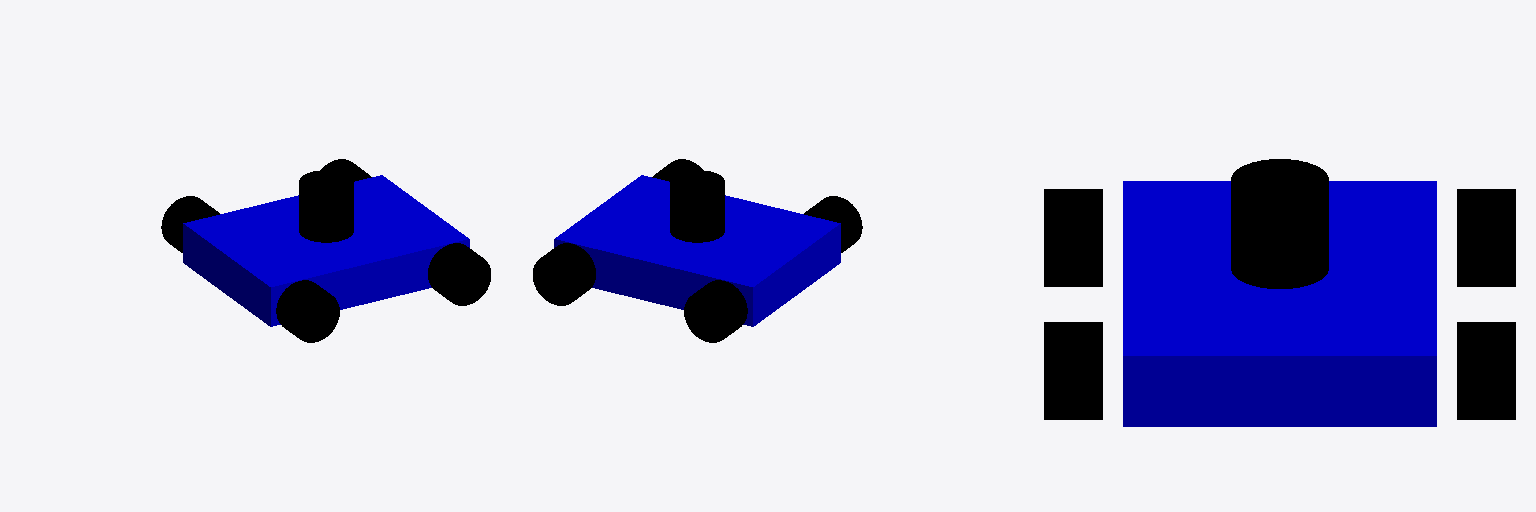
robot.urdf — andresito:
<?xml version="1.0" ?>
<!-- =================================================================================== -->
<!-- |    This document was autogenerated by xacro from andresito.xacro                | -->
<!-- |    EDITING THIS FILE BY HAND IS NOT RECOMMENDED                                 | -->
<!-- =================================================================================== -->
<robot name="andresito">
  <!-- <preserveFixedJoint>true</preserveFixedJoint> -->
  <!-- CAMERA -->
  <!-- <xacro:property name="camera_link" value="realsense_link" />
    <xacro:property name="camera_relative_to" value="puller_base" />
    <xacro:property name="camera_x" value="-${puller_depth/2-0.03}" />
    <xacro:property name="camera_y" value="0.0" />
    <xacro:property name="camera_z" value="0.24" />
    <xacro:property name="camera_rotation_z" value="${180*deg_to_rad}" /> -->
  <!-- PROPERTIES -->
  <material name="blue">
    <color rgba="0 0 0.9 1"/>
  </material>
  <material name="black">
    <color rgba="0 0 0 1"/>
  </material>
  <material name="white">
    <color rgba="1 1 1 1"/>
  </material>
  <!-- <xacro:include filename="leg.xacro" />
  <xacro:include filename="leg_support.xacro" />
  <xacro:include filename="gazebo.xacro" /> -->
  <!-- LINKS -->
  <link name="base_footprint"/>
  <link name="base_link">
    <visual>
      <geometry>
        <box size="0.42 0.32 0.08"/>
      </geometry>
      <material name="blue"/>
    </visual>
    <collision>
      <geometry>
        <box size="0.42 0.32 0.08"/>
      </geometry>
    </collision>
  </link>
  <!-- <link name="center_rotation"></link> -->
  <link name="laser">
    <visual>
      <geometry>
        <cylinder length="0.12" radius="0.05"/>
      </geometry>
      <origin rpy="0 0 0" xyz="0 0 0"/>
      <material name="black"/>
    </visual>
  </link>
  <link name="left_front_wheel">
    <visual>
      <geometry>
        <cylinder length="0.06" radius="0.05"/>
        <!-- <sphere radius="${wheel_radius}"/> -->
      </geometry>
      <origin rpy="1.5707963267948966 0 0" xyz="0 0 0"/>
      <material name="black"/>
    </visual>
    <collision>
      <origin rpy="1.5707963267948966 0 0" xyz="0 0 0"/>
      <geometry>
        <cylinder length="0.06" radius="0.05"/>
        <!-- <sphere radius="${wheel_radius}"/> -->
      </geometry>
    </collision>
  </link>
  <link name="left_back_wheel">
    <visual>
      <geometry>
        <cylinder length="0.06" radius="0.05"/>
        <!-- <sphere radius="${wheel_radius}"/> -->
      </geometry>
      <origin rpy="1.5707963267948966 0 0" xyz="0 0 0"/>
      <material name="black"/>
    </visual>
    <collision>
      <origin rpy="1.5707963267948966 0 0" xyz="0 0 0"/>
      <geometry>
        <cylinder length="0.06" radius="0.05"/>
        <!-- <sphere radius="${wheel_radius}"/> -->
      </geometry>
    </collision>
  </link>
  <link name="right_front_wheel">
    <visual>
      <geometry>
        <cylinder length="0.06" radius="0.05"/>
        <!-- <sphere radius="${wheel_radius}"/> -->
      </geometry>
      <origin rpy="1.5707963267948966 0 0" xyz="0 0 0"/>
      <material name="black"/>
    </visual>
    <collision>
      <origin rpy="1.5707963267948966 0 0" xyz="0 0 0"/>
      <geometry>
        <cylinder length="0.06" radius="0.05"/>
        <!-- <sphere radius="${wheel_radius}"/> -->
      </geometry>
    </collision>
  </link>
  <link name="right_back_wheel">
    <visual>
      <geometry>
        <cylinder length="0.06" radius="0.05"/>
        <!-- <sphere radius="${wheel_radius}"/> -->
      </geometry>
      <origin rpy="1.5707963267948966 0 0" xyz="0 0 0"/>
      <material name="black"/>
    </visual>
    <collision>
      <origin rpy="1.5707963267948966 0 0" xyz="0 0 0"/>
      <geometry>
        <cylinder length="0.06" radius="0.05"/>
        <!-- <sphere radius="${wheel_radius}"/> -->
      </geometry>
    </collision>
  </link>
  <!-- JOINTS -->
  <joint name="base_joint" type="fixed">
    <origin xyz="0 -0.21 0.0"/>
    <parent link="base_footprint"/>
    <child link="base_link"/>
  </joint>
  <joint name="base_link_left_front_wheel" type="continuous">
    <parent link="base_link"/>
    <child link="left_front_wheel"/>
    <origin xyz="0.16 0.21 0.0"/>
    <axis xyz="0 1 0"/>
  </joint>
  <joint name="base_link_left_back_wheel" type="continuous">
    <parent link="base_link"/>
    <child link="left_back_wheel"/>
    <origin xyz="0.16 -0.21 0.0"/>
    <axis xyz="0 1 0"/>
  </joint>
  <joint name="base_link_right_front_wheel" type="continuous">
    <parent link="base_link"/>
    <child link="right_front_wheel"/>
    <origin xyz="-0.16 0.21 0.0"/>
    <axis xyz="0 1 0"/>
  </joint>
  <joint name="base_link_right_back_wheel" type="continuous">
    <parent link="base_link"/>
    <child link="right_back_wheel"/>
    <origin xyz="-0.16 -0.21 0.0"/>
    <axis xyz="0 1 0"/>
  </joint>
  <joint name="base_link_laser" type="fixed">
    <parent link="base_link"/>
    <child link="laser"/>
    <origin xyz="0 0 0.08"/>
    <axis xyz="0 0 1"/>
  </joint>

  <!--**************************************************************-->
  <!-- IMU -->
  <!--**************************************************************-->
  <link name="imu_link">
    <!--INERTIA-->
    <!--Not calling macro, just small values-->
    <inertial>
      <mass value="0.005"/>
      <inertia ixx="0.001" ixy="0.0" ixz="0.0" iyy="0.001" iyz="0.0" izz="0.001"/>
    </inertial>
    <collision>
      <geometry>
        <box size="0.0 0.0 0.0"/>
      </geometry>
    </collision>
    <visual>
      <geometry>
        <box size="0.0 0.0 0.0"/>
      </geometry>
      <material name="dark"/>
    </visual>
  </link>
  <joint name="imu_joint" type="fixed">
    <origin rpy="3.1415922 0 3.1415922" xyz="-0.646 0.0 -0.055"/>
    <child link="imu_link"/>
    <parent link="base_link"/>
  </joint>

  <odometry_frame>odom</odometry_frame>
</robot>

--- Render facts (derived) ---
Views: 3 orthographic renders of the robot side by side, from view 1: azimuth 30°, elevation 25°; view 2: azimuth 150°, elevation 25°; view 3: azimuth 270°, elevation 25°.
Robot: andresito — 8 links, 7 joints (4 continuous, 3 fixed); root link base_footprint; default pose: all joints at 0.
Links seen in each view (by area): view 1: base_link, laser, right_back_wheel, left_back_wheel, right_front_wheel; view 2: base_link, laser, right_front_wheel, left_front_wheel, right_back_wheel; view 3: base_link, laser, left_front_wheel, left_back_wheel, right_front_wheel, right_back_wheel.
Boxes of the visible links, left/top/right/bottom form: base_link: left=183, top=175, right=469, bottom=326; laser: left=299, top=170, right=353, bottom=242; right_back_wheel: left=276, top=280, right=339, bottom=342; left_back_wheel: left=428, top=243, right=490, bottom=305; right_front_wheel: left=161, top=196, right=219, bottom=252; base_link: left=554, top=175, right=840, bottom=326; laser: left=670, top=170, right=724, bottom=242; right_front_wheel: left=684, top=280, right=747, bottom=342; left_front_wheel: left=533, top=243, right=595, bottom=305; right_back_wheel: left=804, top=196, right=862, bottom=252; base_link: left=1123, top=181, right=1436, bottom=426; laser: left=1231, top=159, right=1328, bottom=288; left_front_wheel: left=1457, top=322, right=1515, bottom=419; left_back_wheel: left=1044, top=322, right=1102, bottom=419; right_front_wheel: left=1457, top=189, right=1515, bottom=286; right_back_wheel: left=1044, top=189, right=1102, bottom=286.
Size in the robot's own frame: 0.856 by 0.48 by 0.195 metres.
Geometry: primitives only (box / cylinder / sphere), no mesh files.
